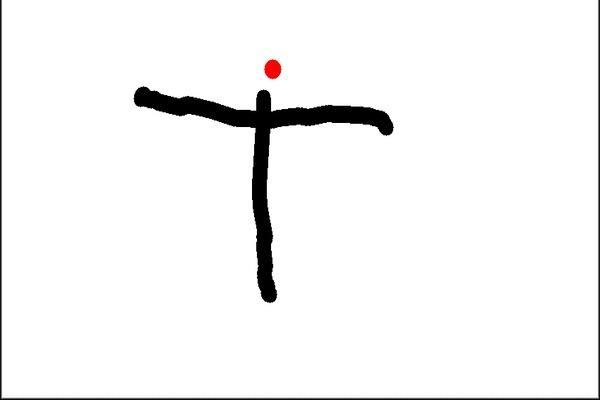T: (128, 76, 400, 304)
